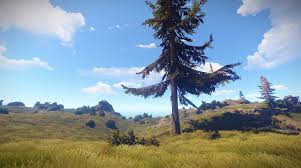tree: (158, 1, 195, 137), (252, 75, 279, 109)
